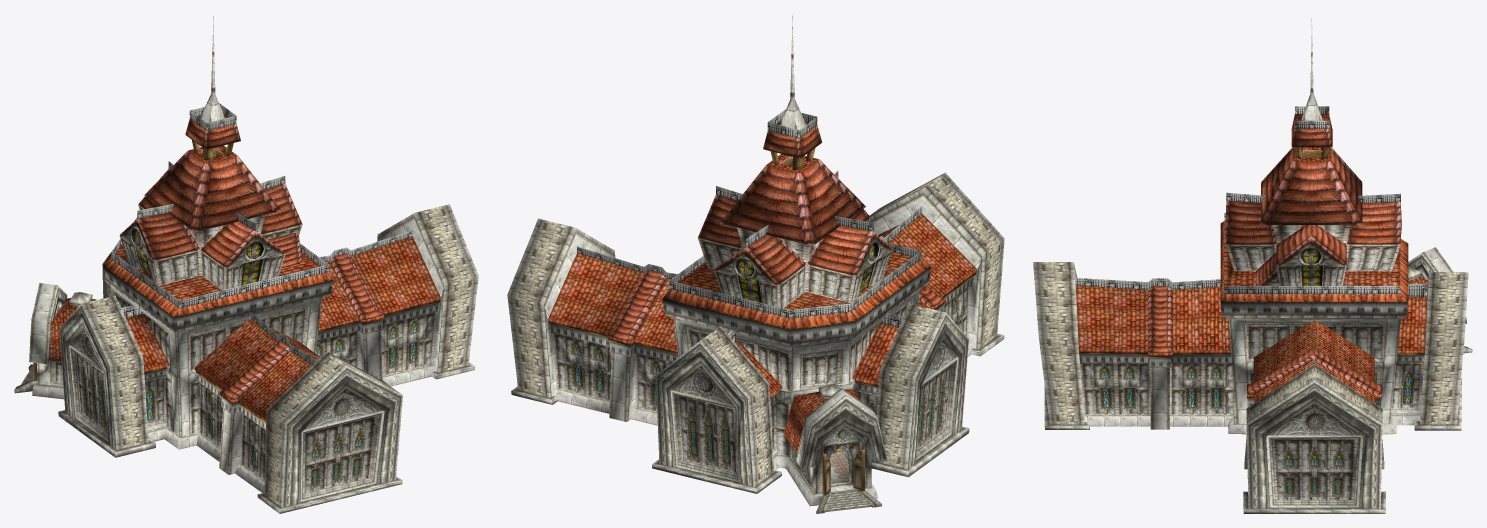
Rendered from nsabbey.glb.
The picture shows the model from 3 angles, left to right: view 1: azimuth 30°, elevation 25°; view 2: azimuth 150°, elevation 25°; view 3: azimuth 270°, elevation 25°; orthographic projection. The views are drawn at different scales.
Bounding box in the file's own units: 91.44 × 89.02 × 91.31.
Materials: 30 (30 with a texture image).
